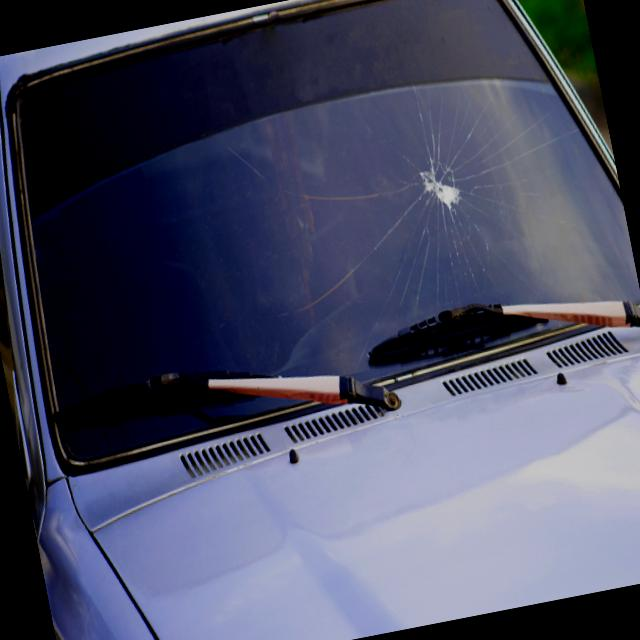Fissure: (201, 53, 606, 344)
